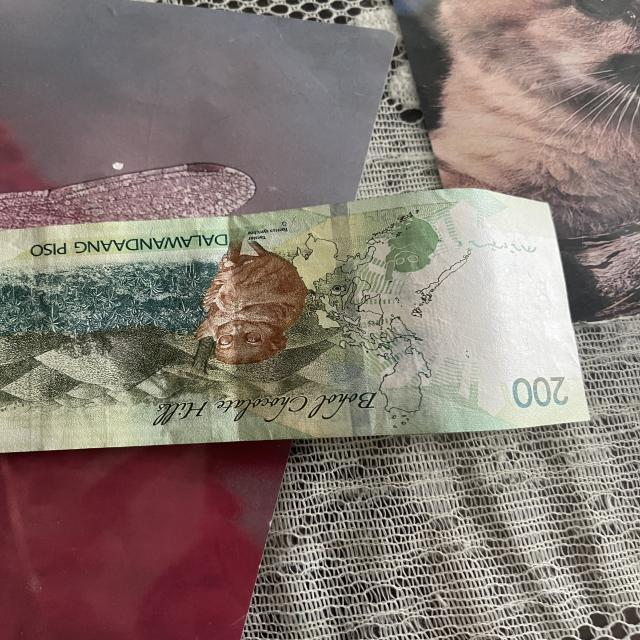200_tarsier: (166, 223, 311, 378)
200_tarsier_watermark: (374, 211, 446, 289)
